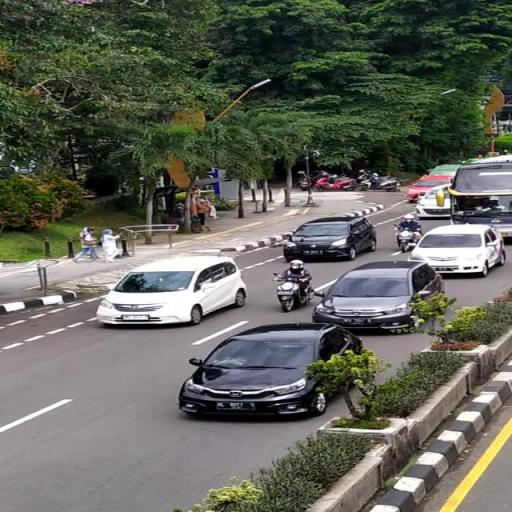Helmet: (290, 260, 303, 269), (404, 214, 414, 220)
Motor: (274, 273, 312, 311), (357, 173, 399, 191), (396, 225, 421, 252), (314, 176, 357, 191), (298, 172, 329, 190)
